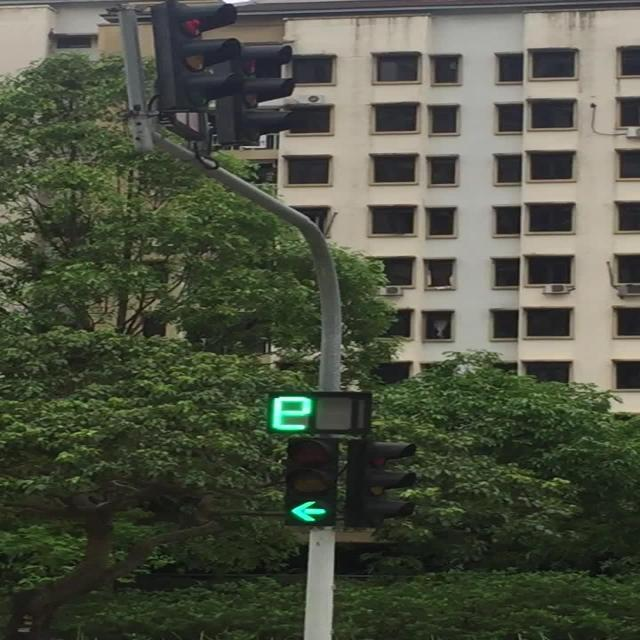traffic light: (151, 0, 241, 114), (215, 40, 296, 148), (345, 439, 417, 528), (284, 436, 338, 528), (267, 391, 372, 435), (267, 393, 314, 434)
